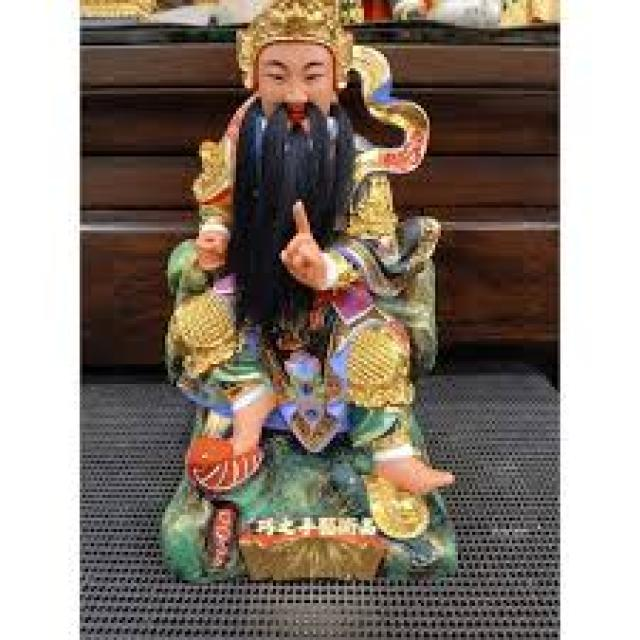Xuan wu: (190, 0, 448, 508)
